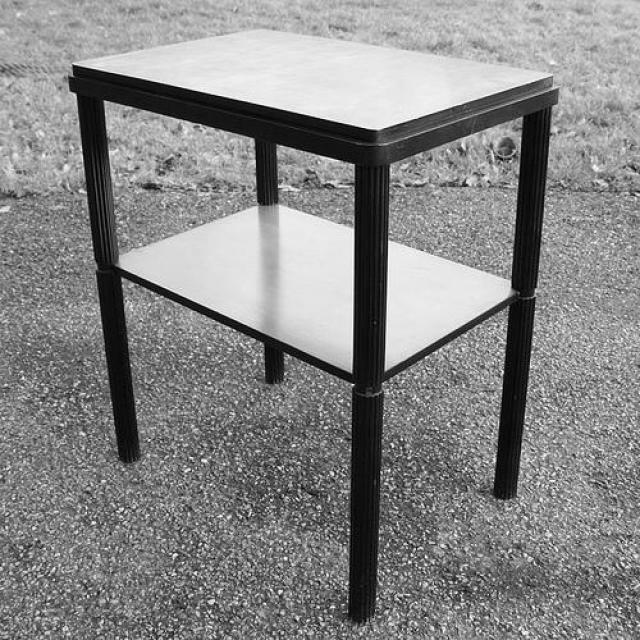table: (65, 24, 562, 622)
